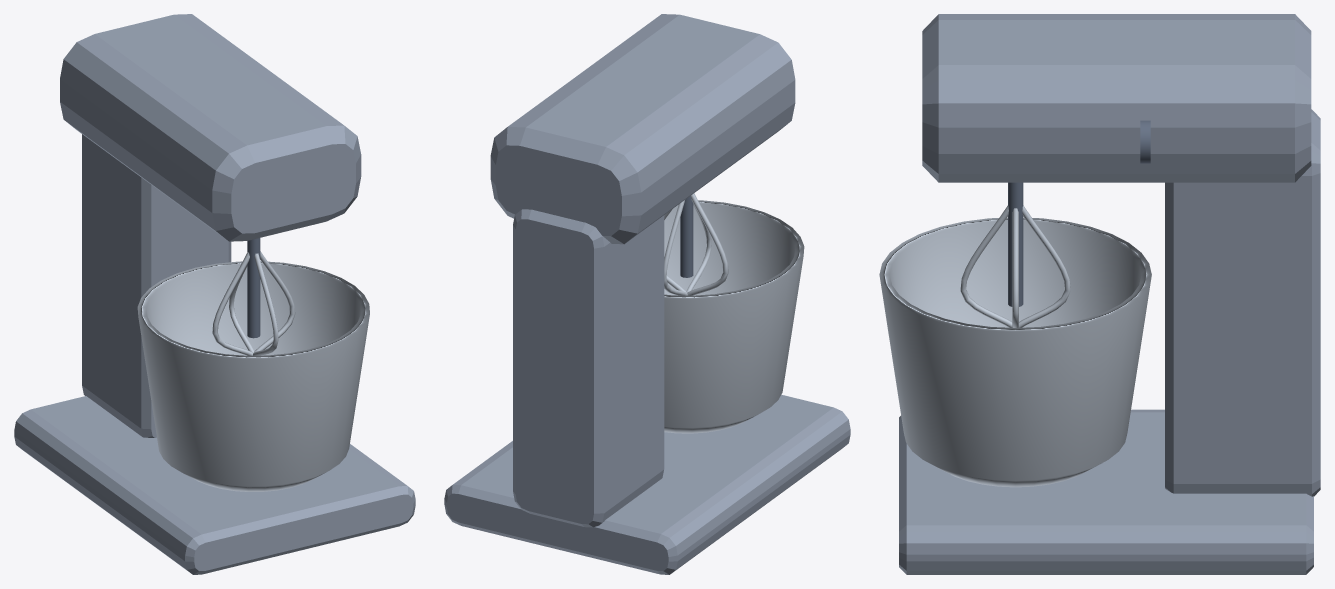
File: stand-mixer-lite.glb
3 views of the same model, side by side, from view 1: azimuth 30°, elevation 25°; view 2: azimuth 150°, elevation 25°; view 3: azimuth 270°, elevation 25° (orthographic). The views are drawn at different scales.
Parts seen in each view (by area): view 1: body, light, dark; view 2: body, light, dark; view 3: body, light, dark.
Boxes of the visible parts, x1,y1,x2,y2 form: body: (14,14,415,574); light: (137,251,369,491); dark: (247,238,260,338); body: (444,14,850,574); light: (664,193,804,433); dark: (680,196,693,277); body: (899,14,1320,574); light: (879,205,1151,487); dark: (1008,120,1150,306).
Bounding box in the file's own units: 0.24 × 0.4025 × 0.34.
